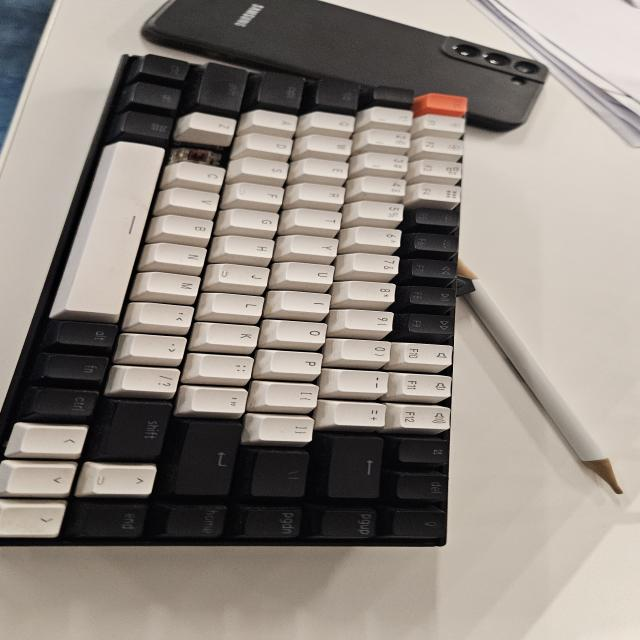C: (172, 145, 210, 162)
